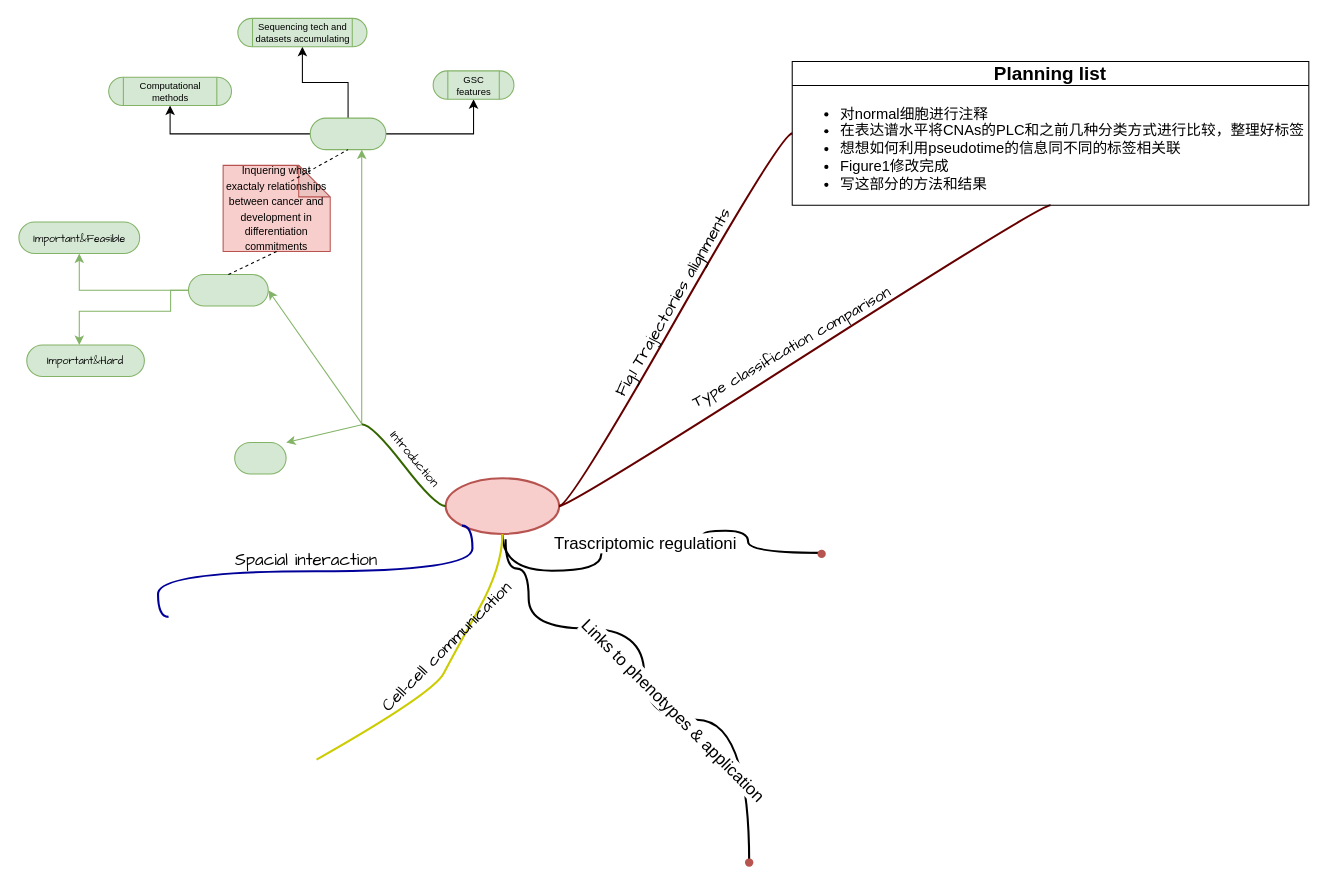
The diagram is 1339 pixels wide and 892 high, and some of its shapes have lost their labels. Here are the shapes that lost their labels. From the top down, the centre of each, then its label:
At pixel 347 133: "Overview".
At pixel 227 290: "Questions".
At pixel 260 458: "Aims".
At pixel 502 505: "GBCs align with fetal neural cells".
